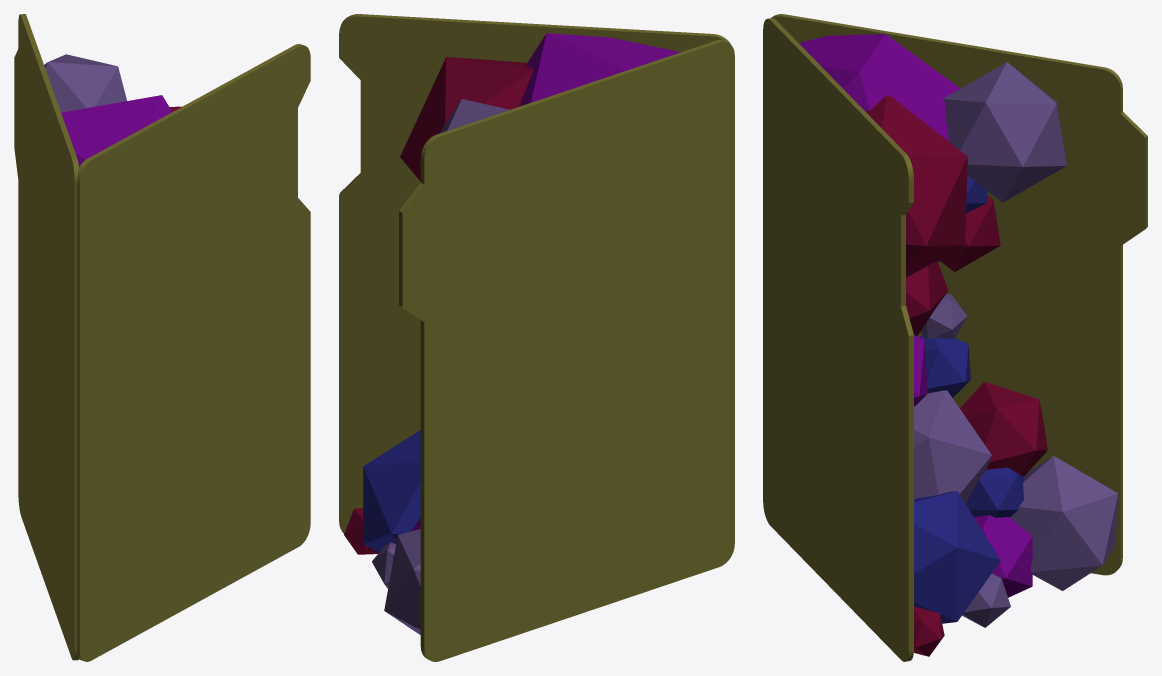
Rendered from Cannon_Tower.fbx.
3 renders of one model, left to right at view 1: azimuth 30°, elevation 25°; view 2: azimuth 150°, elevation 25°; view 3: azimuth 270°, elevation 25°, orthographic. The views are drawn at different scales.
Parts seen in each view (by area): view 1: Cannon_Tower_; view 2: Cannon_Tower_; view 3: Cannon_Tower_.
Part boxes in pixels (box(x1,y1,x2,y2)): Cannon_Tower_: box(14, 14, 310, 661); Cannon_Tower_: box(339, 14, 734, 661); Cannon_Tower_: box(763, 14, 1147, 661).
Size of the model in its own units: 2.88 by 4.61 by 3.1.
